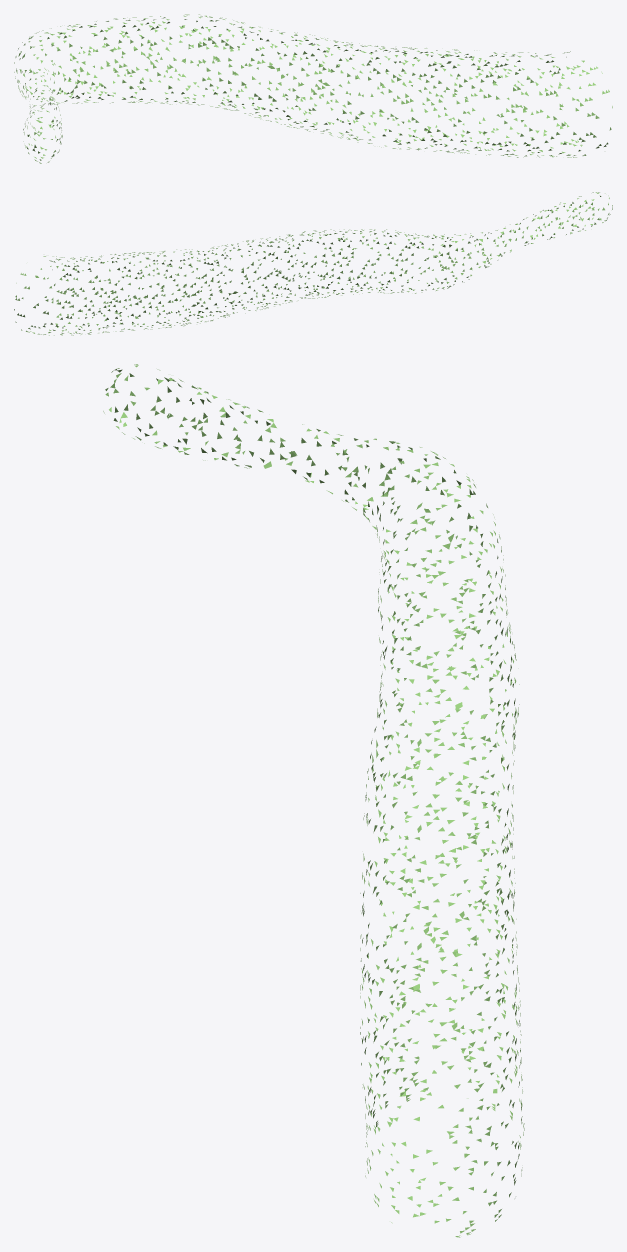
Rendered from morph_014.glb.
3 views of the same model, one above another, from view 1: azimuth 30°, elevation 25°; view 2: azimuth 150°, elevation 25°; view 3: azimuth 270°, elevation 25° (orthographic). The views are drawn at different scales.
Size of the model in its own units: 118 by 44.94 by 43.26.
